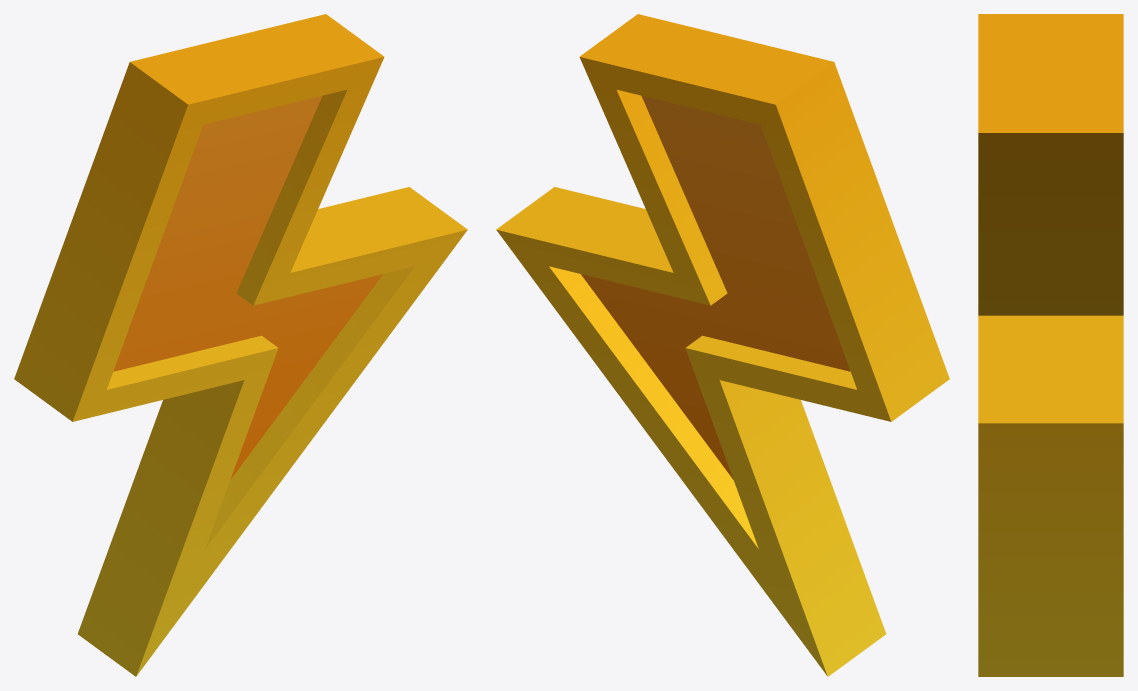
The model's file is Collectable_Lightning_01.fbx.
3 renders of one model, left to right at view 1: azimuth 30°, elevation 25°; view 2: azimuth 150°, elevation 25°; view 3: azimuth 270°, elevation 25°, orthographic. The views are drawn at different scales.
Parts seen in each view (by area): view 1: Collectable_Lightning_01; view 2: Collectable_Lightning_01; view 3: Collectable_Lightning_01.
Boxes of the visible parts, x1=… form: Collectable_Lightning_01: x1=14, y1=14, x2=467, y2=676; Collectable_Lightning_01: x1=496, y1=14, x2=949, y2=676; Collectable_Lightning_01: x1=978, y1=14, x2=1123, y2=676.
Size of the model in its own units: 53.38 by 72.2 by 13.68.
